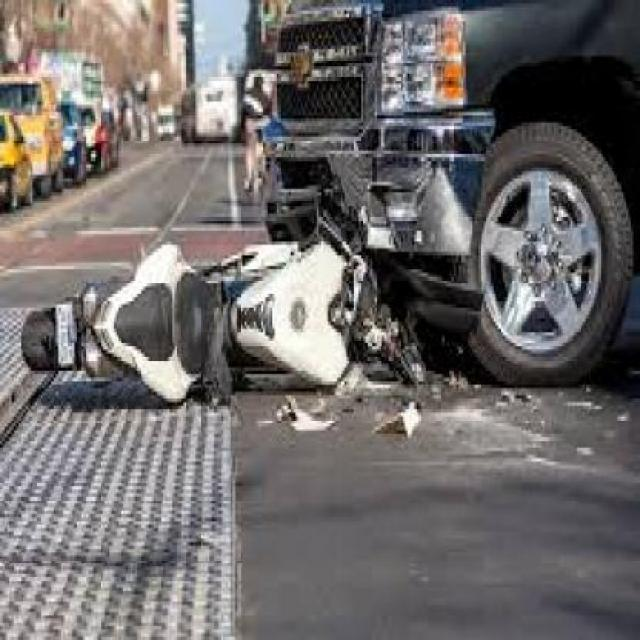accident: (18, 6, 550, 459)
